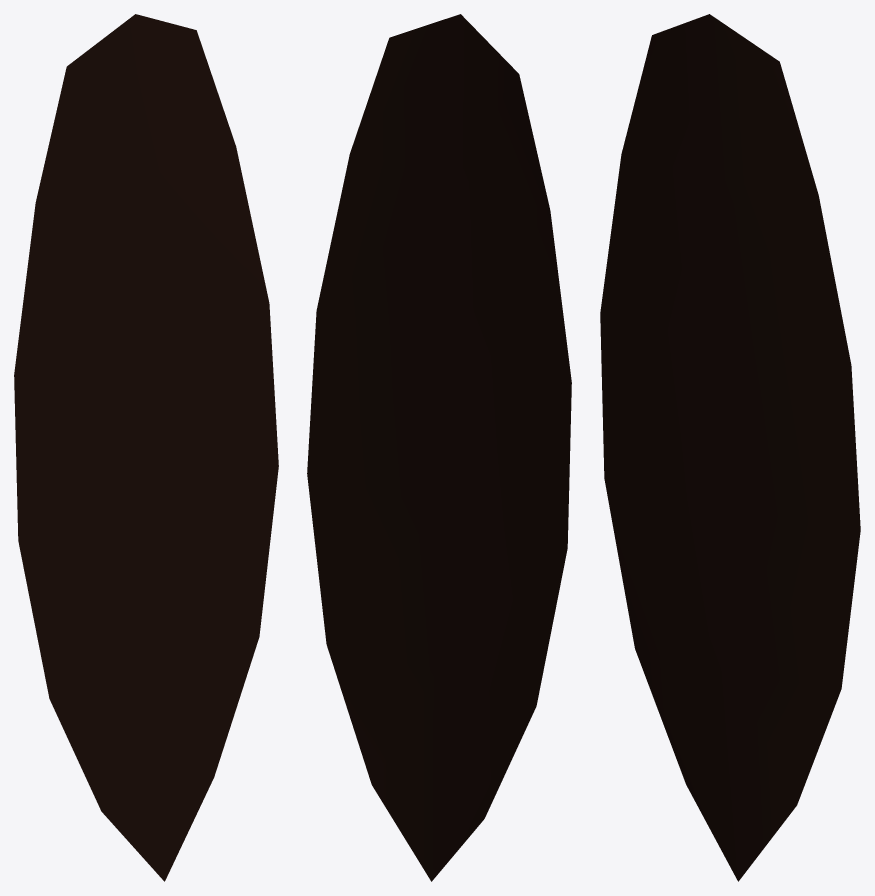
Rendered from hen_feather_flight_secondary_005.obj.
3 views of the same model, side by side, from view 1: azimuth 30°, elevation 25°; view 2: azimuth 150°, elevation 25°; view 3: azimuth 330°, elevation 25° (orthographic).
Visible parts, largest first — view 1: feather_flight_secondary_005; view 2: feather_flight_secondary_005; view 3: feather_flight_secondary_005.
Boxes of the visible parts, box(x1,y1,x2,y2) form: feather_flight_secondary_005: box(14, 14, 278, 881); feather_flight_secondary_005: box(307, 14, 571, 881); feather_flight_secondary_005: box(600, 14, 860, 881).
Size of the model in its own units: 0.0156 by 0.0493 by 0.000524.
